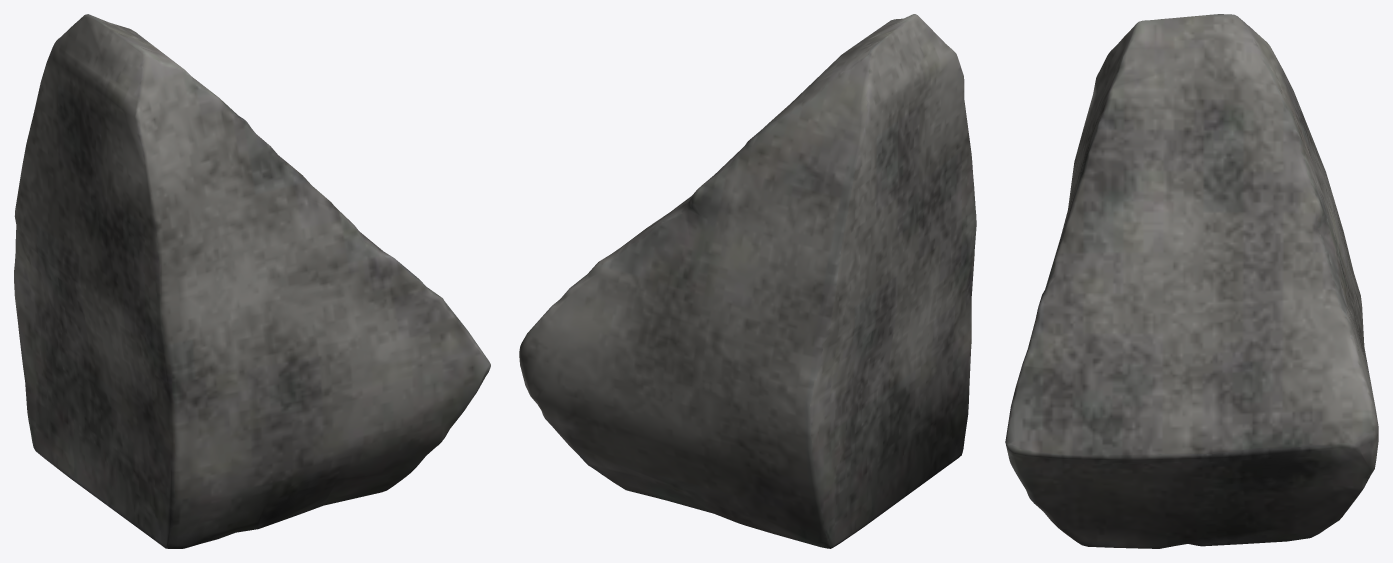
The model's file is chipped-granite-wall-section-v001.glb.
The picture shows the model from 3 angles, left to right: view 1: azimuth 30°, elevation 25°; view 2: azimuth 150°, elevation 25°; view 3: azimuth 270°, elevation 25°; orthographic projection. The views are drawn at different scales.
Parts seen in each view (by area): view 1: chipped-granite-wall-section; view 2: chipped-granite-wall-section; view 3: chipped-granite-wall-section.
Part boxes in pixels (bbox=[...]): chipped-granite-wall-section: bbox=[14, 14, 490, 548]; chipped-granite-wall-section: bbox=[519, 14, 976, 548]; chipped-granite-wall-section: bbox=[1005, 14, 1378, 548].
Size of the model in its own units: 0.951 by 1.39 by 1.07.
Materials: 1 (1 with a texture image).
